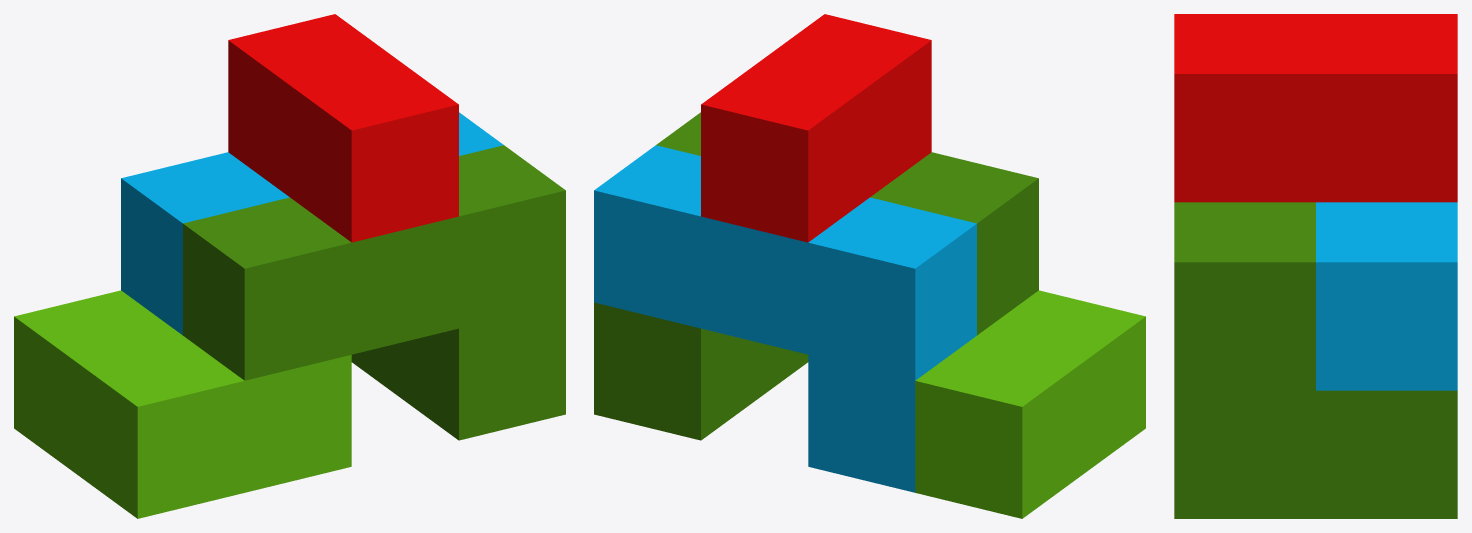
3 views of the same model, side by side, from view 1: azimuth 30°, elevation 25°; view 2: azimuth 150°, elevation 25°; view 3: azimuth 270°, elevation 25° (orthographic). The views are drawn at different scales.
Visible parts, largest first — view 1: mergedBlocks(Clone); view 2: mergedBlocks(Clone); view 3: mergedBlocks(Clone).
Part boxes in pixels (x1,y1,x2,y2): mergedBlocks(Clone): [14, 14, 565, 518]; mergedBlocks(Clone): [594, 14, 1145, 518]; mergedBlocks(Clone): [1174, 14, 1457, 518].
Size of the model in its own units: 4 by 3 by 2.
4 materials, 4 textured.
